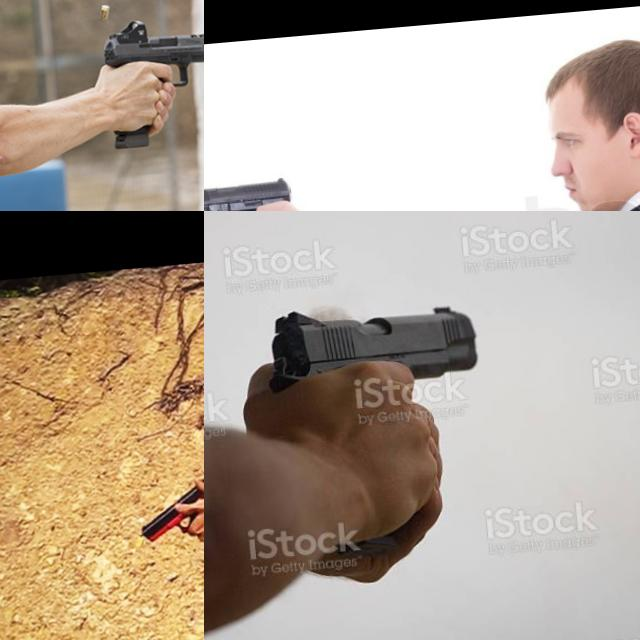handgun: (256, 290, 486, 397), (98, 12, 204, 98), (133, 474, 204, 542), (204, 173, 296, 211)
